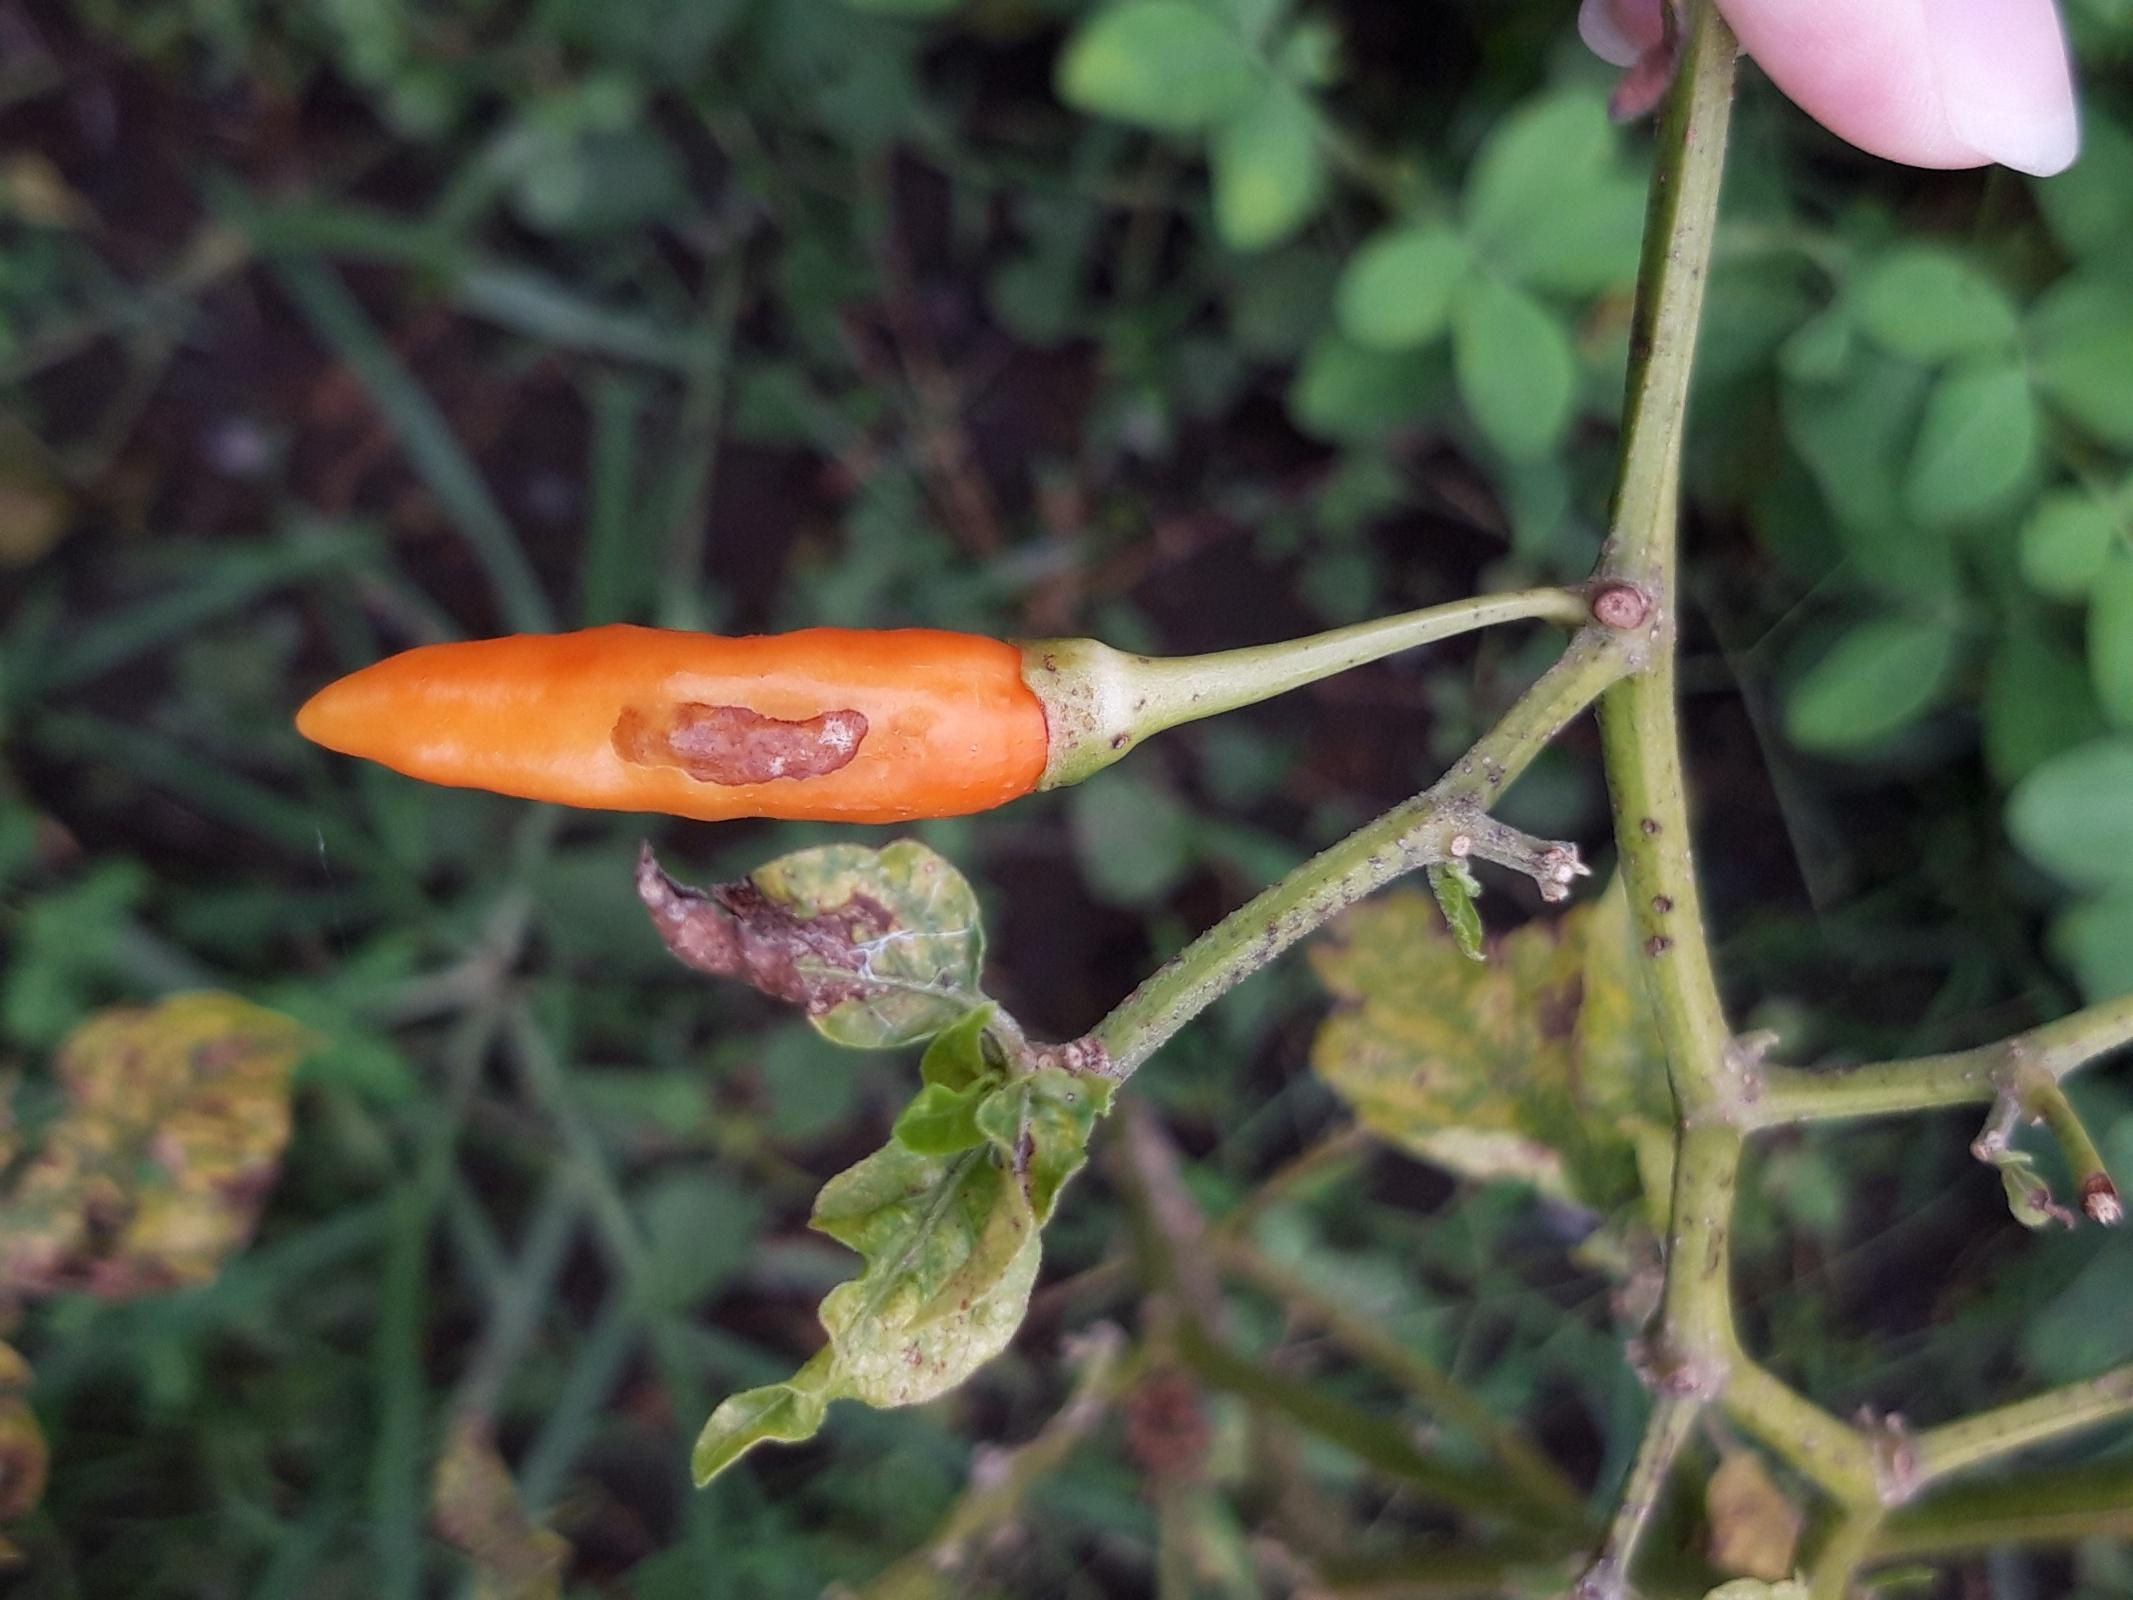lalat_buah: (296, 624, 1130, 825)
